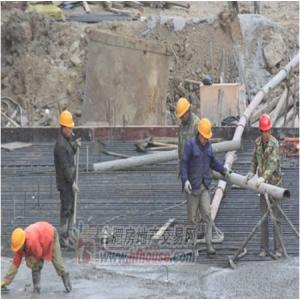red: (260, 114, 272, 142)
yellow: (58, 111, 75, 138), (11, 226, 26, 255), (198, 118, 213, 145), (178, 98, 192, 126)
